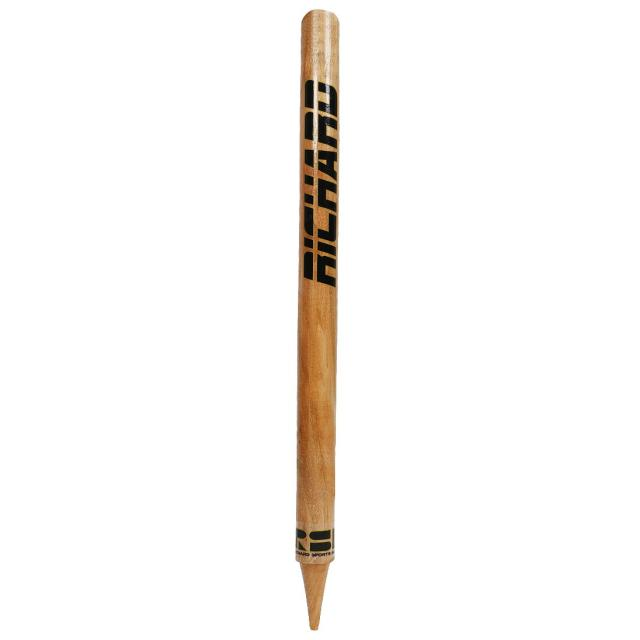stump: (298, 8, 342, 626)
